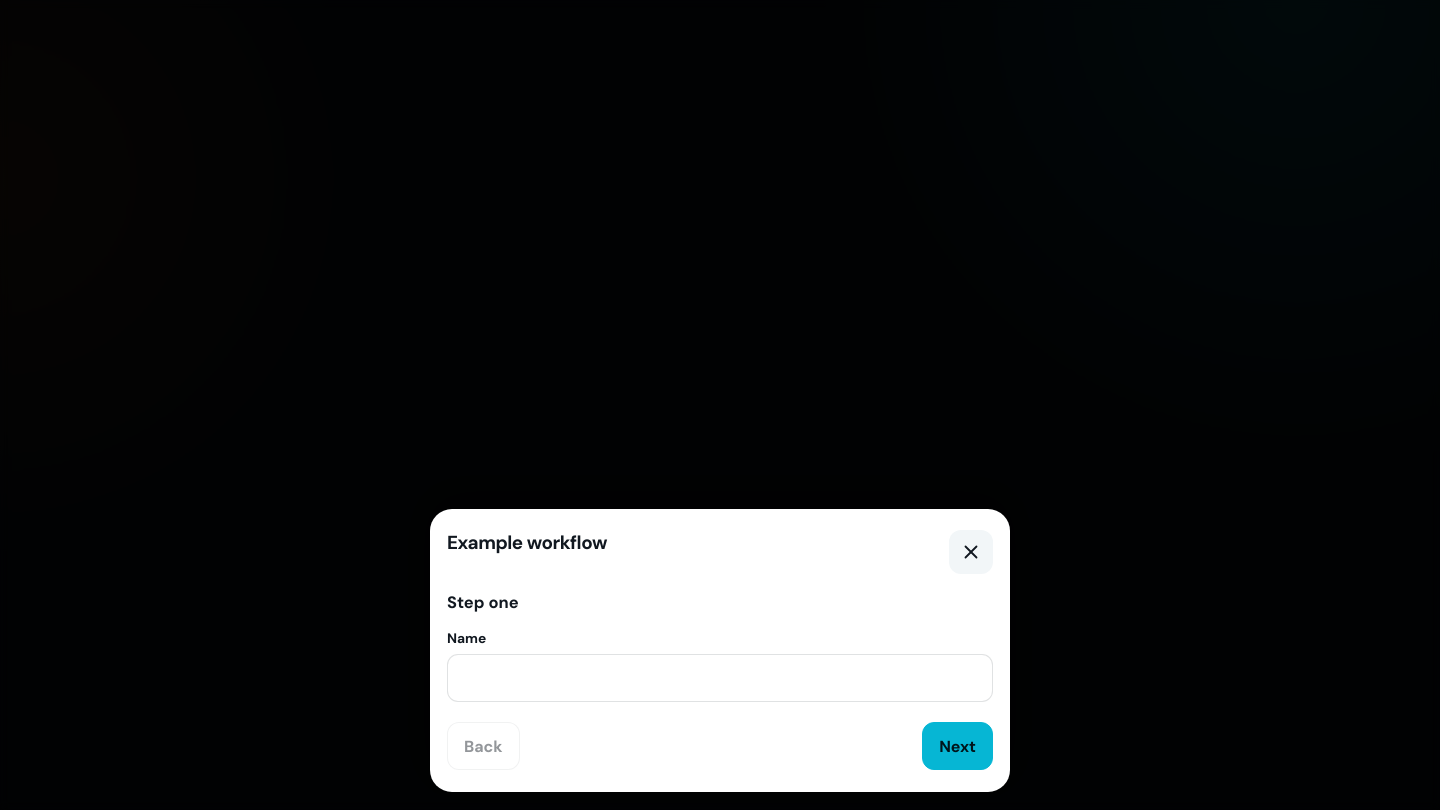
Test: WorkflowWizard › advances and goes back once the required field is filled
The width and height of the screenshot is (1440, 810).
Type "Acme" into the field labelled "Name" at (720, 678), box [447, 654, 993, 702]
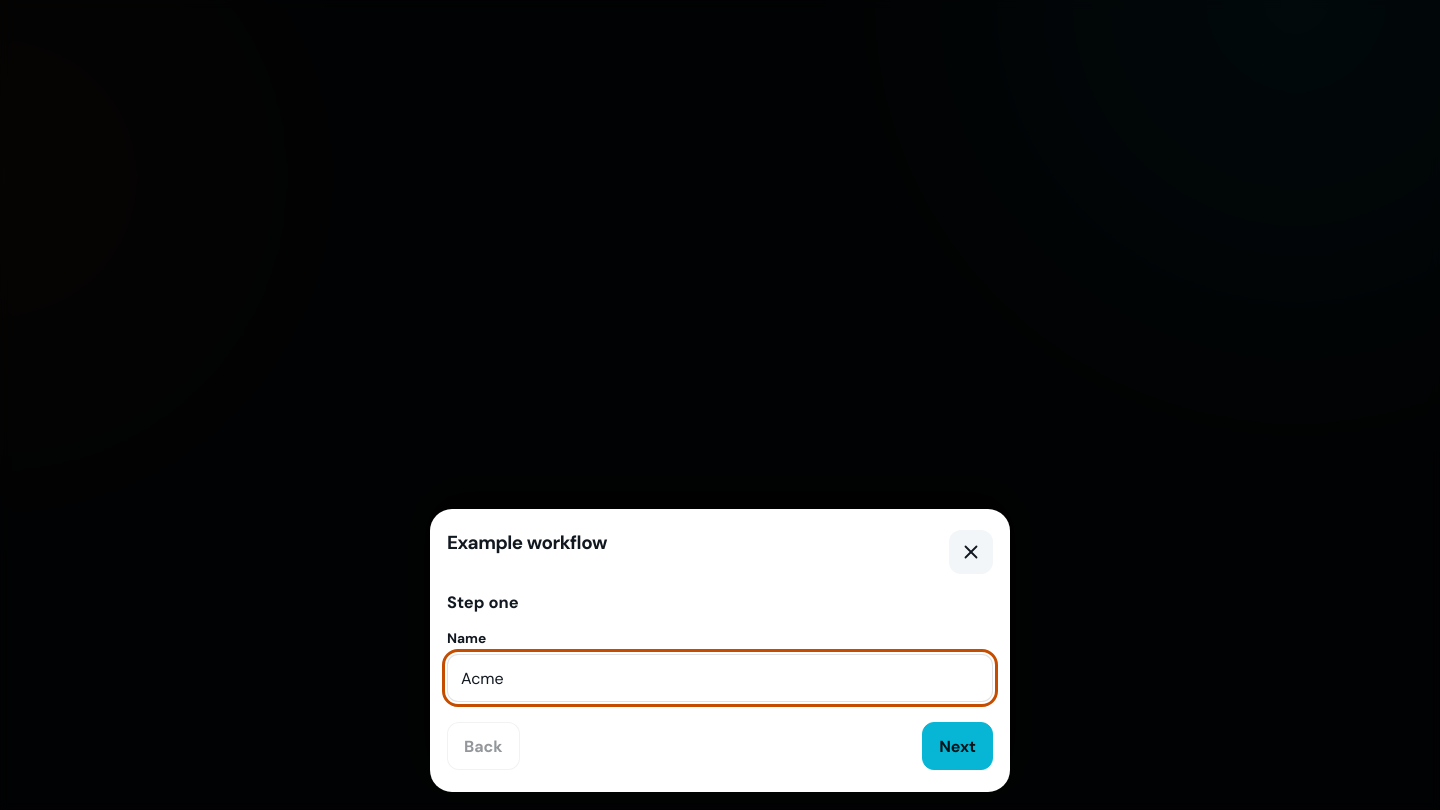
Click the button "Next" at (958, 746), box [922, 722, 993, 770]
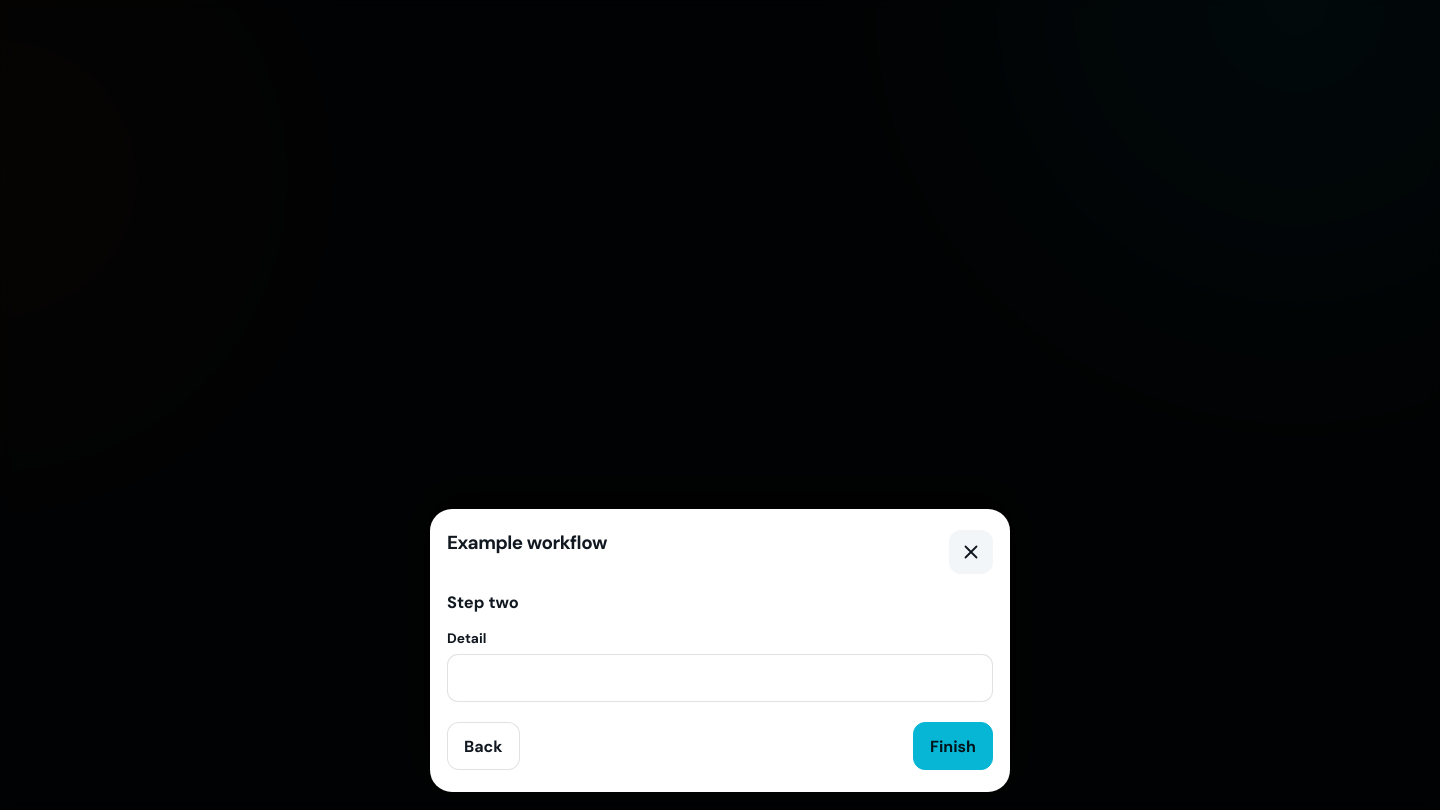
Expected: the heading "Step two" is shown, [447, 592, 519, 613]
Click the button "Back" at (483, 746), box [447, 722, 520, 770]
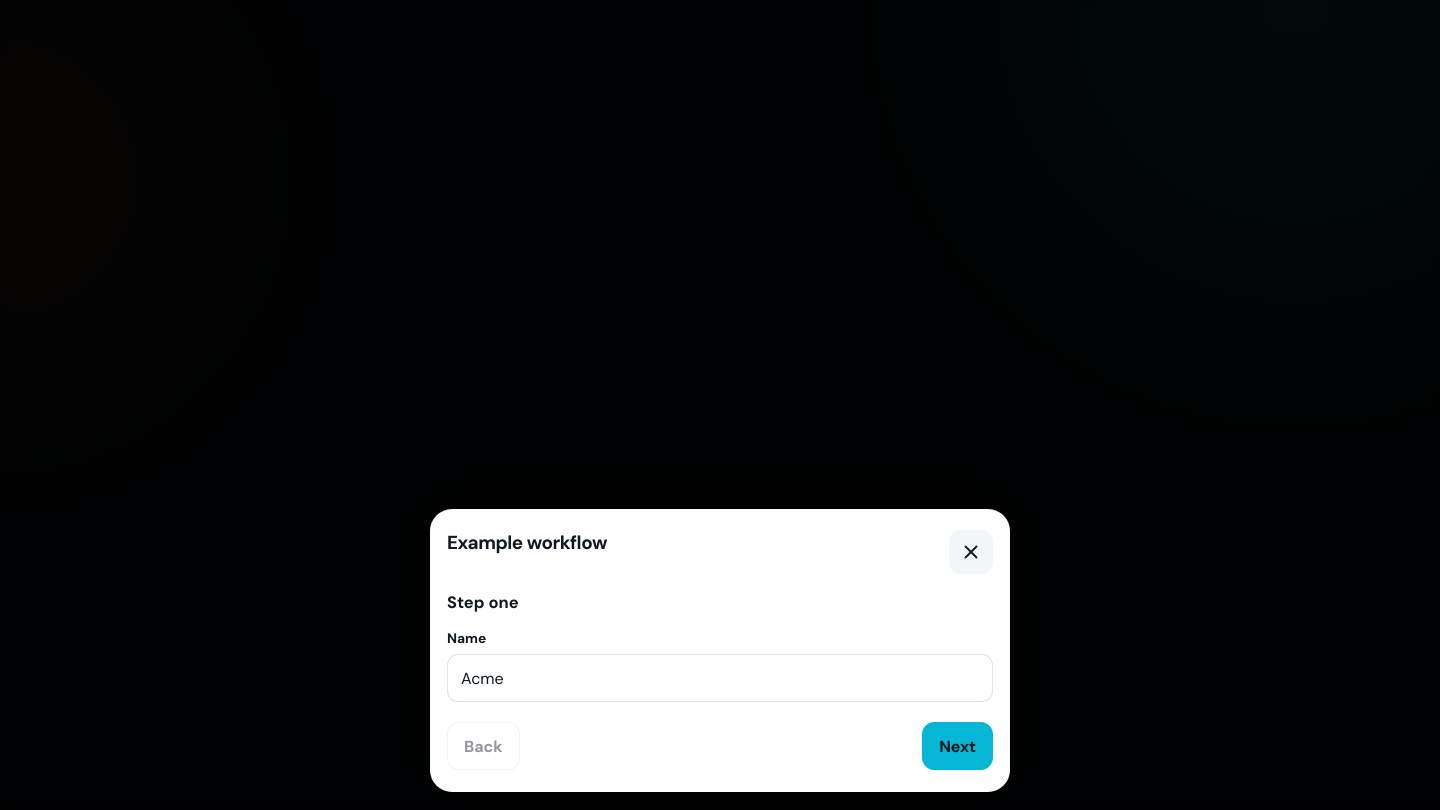
Expected: the heading "Step one" is shown, [447, 592, 519, 613]
